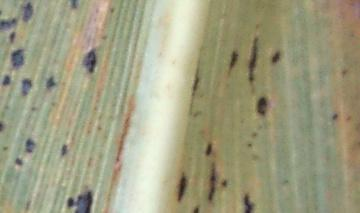tarspot: (65, 188, 94, 213), (246, 36, 258, 83), (208, 158, 219, 202), (81, 46, 98, 73), (8, 48, 27, 69), (19, 1, 35, 24), (175, 171, 187, 201), (225, 51, 242, 72), (240, 191, 254, 213), (1, 16, 19, 32), (255, 94, 268, 116), (22, 136, 37, 154), (19, 78, 34, 96), (190, 75, 201, 98), (269, 49, 282, 65), (44, 76, 57, 90), (1, 74, 12, 86), (204, 143, 214, 156), (60, 143, 69, 156), (340, 67, 349, 79), (8, 30, 16, 43), (219, 178, 229, 188), (14, 156, 23, 166), (108, 4, 116, 14), (251, 130, 259, 140), (330, 111, 338, 120), (69, 1, 78, 9), (191, 206, 201, 213), (30, 104, 37, 113), (2, 144, 9, 152), (246, 140, 252, 149), (1, 120, 5, 131), (1, 9, 4, 16)
